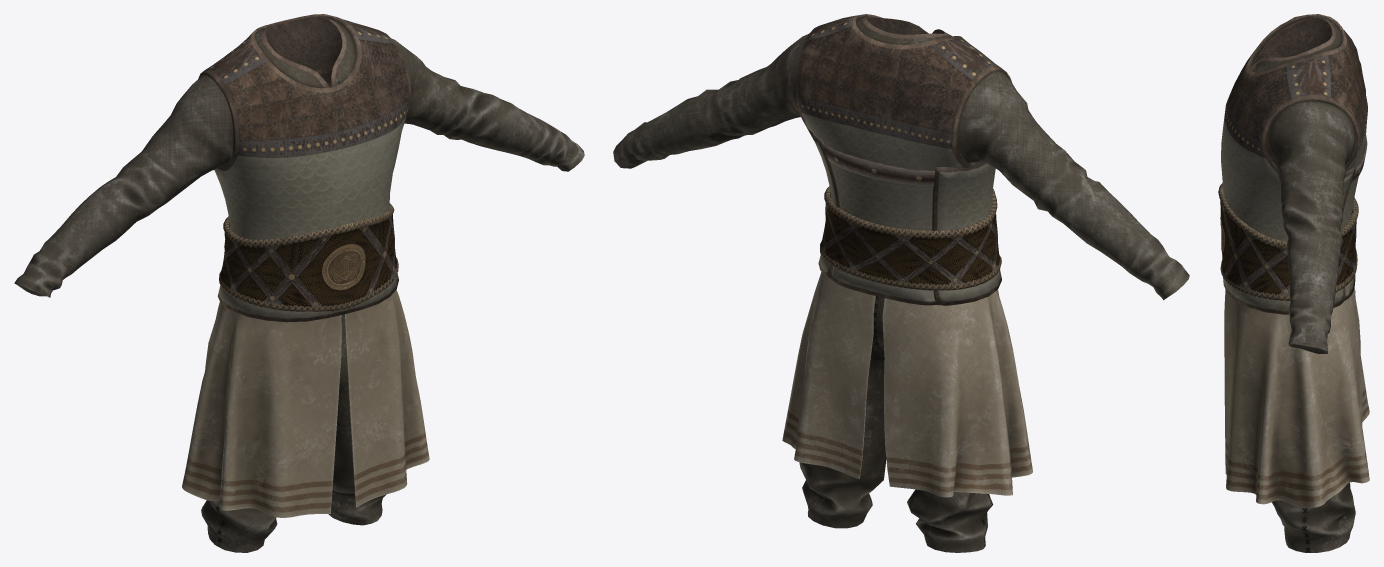
File: dunland_wulf_scalemail_light_a.fbx
3 renders of one model, left to right at view 1: azimuth 30°, elevation 25°; view 2: azimuth 150°, elevation 25°; view 3: azimuth 270°, elevation 25°, orthographic. The views are drawn at different scales.
Visible parts, largest first — view 1: dunland_wulf_scalemail_light_a.base, dunland_wulf_scalemail_light_a.skirt, dunland_wulf_scalemail_light_a.belt; view 2: dunland_wulf_scalemail_light_a.base, dunland_wulf_scalemail_light_a.skirt, dunland_wulf_scalemail_light_a.belt, dunland_wulf_scalemail_light_a.prop; view 3: dunland_wulf_scalemail_light_a.base, dunland_wulf_scalemail_light_a.skirt, dunland_wulf_scalemail_light_a.belt, dunland_wulf_scalemail_light_a.prop.
Boxes of the visible parts, x1,y1,x2,y2 form: dunland_wulf_scalemail_light_a.base: (14, 14, 584, 552); dunland_wulf_scalemail_light_a.skirt: (182, 289, 429, 517); dunland_wulf_scalemail_light_a.belt: (219, 203, 398, 311); dunland_wulf_scalemail_light_a.base: (613, 14, 1189, 552); dunland_wulf_scalemail_light_a.skirt: (782, 272, 1032, 497); dunland_wulf_scalemail_light_a.belt: (820, 186, 1001, 290); dunland_wulf_scalemail_light_a.prop: (822, 144, 935, 185); dunland_wulf_scalemail_light_a.base: (1221, 14, 1367, 552); dunland_wulf_scalemail_light_a.skirt: (1224, 288, 1369, 507); dunland_wulf_scalemail_light_a.belt: (1218, 183, 1358, 300); dunland_wulf_scalemail_light_a.prop: (1351, 135, 1367, 183).
Size of the model in its own units: 1.38 by 0.3335 by 1.18.
3 materials, 3 textured.
